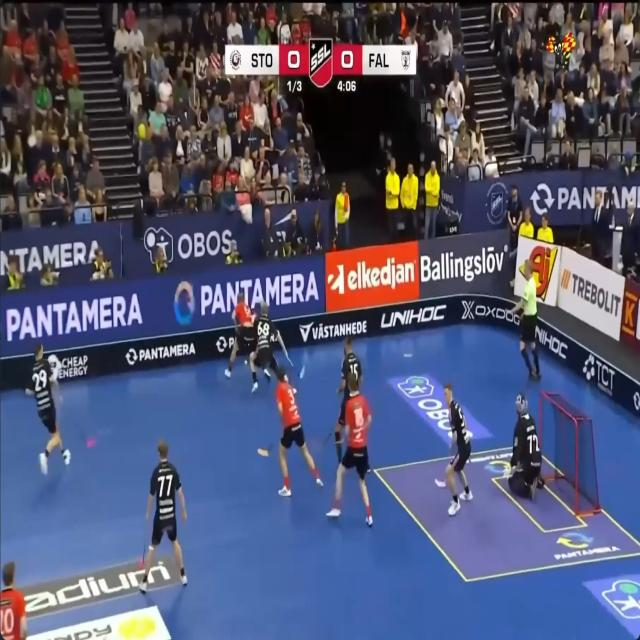player: (139, 439, 186, 592), (326, 373, 373, 526), (275, 368, 322, 496), (25, 344, 70, 473), (435, 383, 472, 515), (505, 395, 543, 499), (334, 336, 362, 463), (249, 301, 287, 391), (512, 260, 540, 379), (225, 293, 254, 377), (0, 561, 27, 639)
stick: (139, 523, 148, 569), (257, 444, 272, 456), (434, 478, 446, 488)
